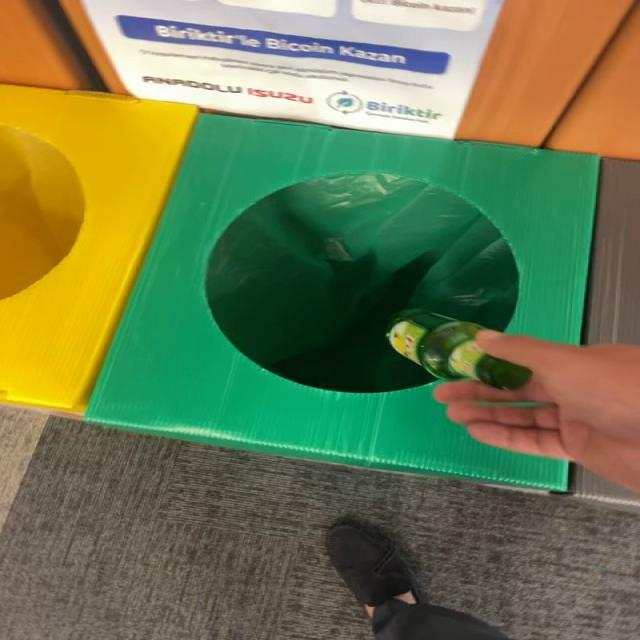glass: (387, 310, 532, 390)
